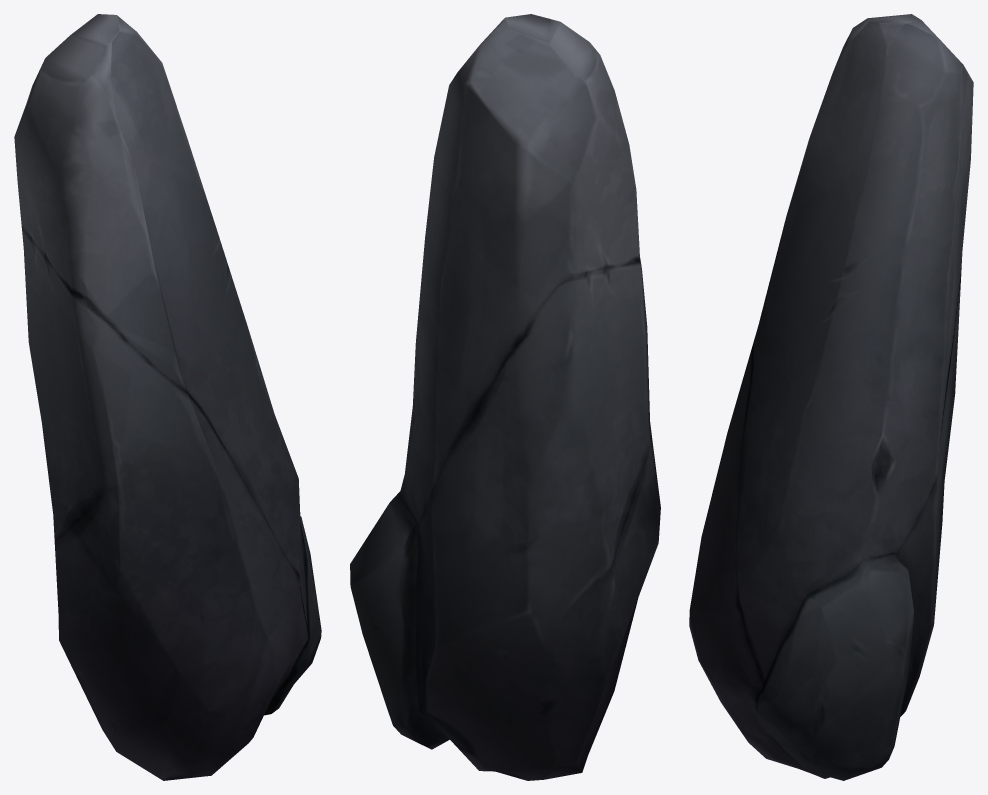
File: large rock.fbx
The picture shows the model from 3 angles, left to right: view 1: azimuth 30°, elevation 25°; view 2: azimuth 150°, elevation 25°; view 3: azimuth 270°, elevation 25°; orthographic projection. The views are drawn at different scales.
Visible parts, largest first — view 1: rock_large_LOD0; view 2: rock_large_LOD0; view 3: rock_large_LOD0.
Part boxes in pixels (box(x1,y1,x2,y2)): rock_large_LOD0: box(14, 14, 321, 780); rock_large_LOD0: box(350, 14, 660, 780); rock_large_LOD0: box(689, 14, 973, 780).
Size of the model in its own units: 1.33 by 3.77 by 1.32.
